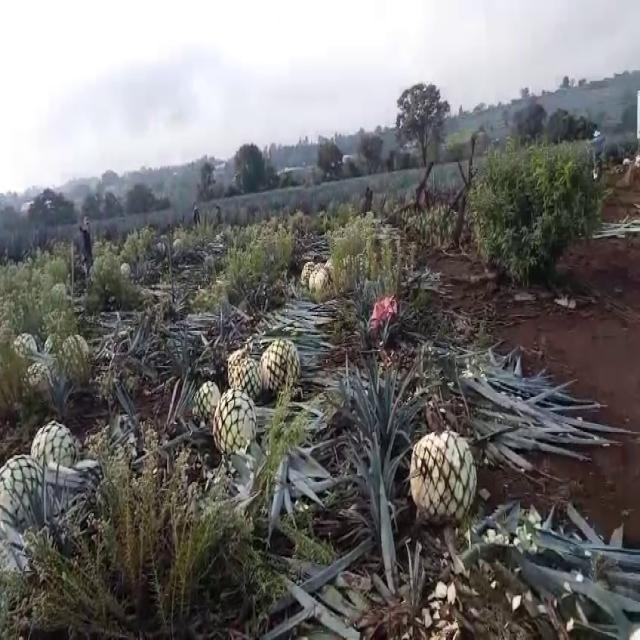agave: (410, 428, 480, 525), (0, 448, 53, 576), (212, 384, 258, 448), (256, 333, 301, 394), (32, 419, 76, 481), (192, 381, 221, 425), (228, 345, 249, 393), (235, 357, 259, 398), (299, 260, 315, 294), (314, 272, 328, 294), (309, 266, 320, 288)
